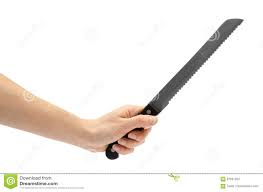knife: (104, 14, 246, 162)
